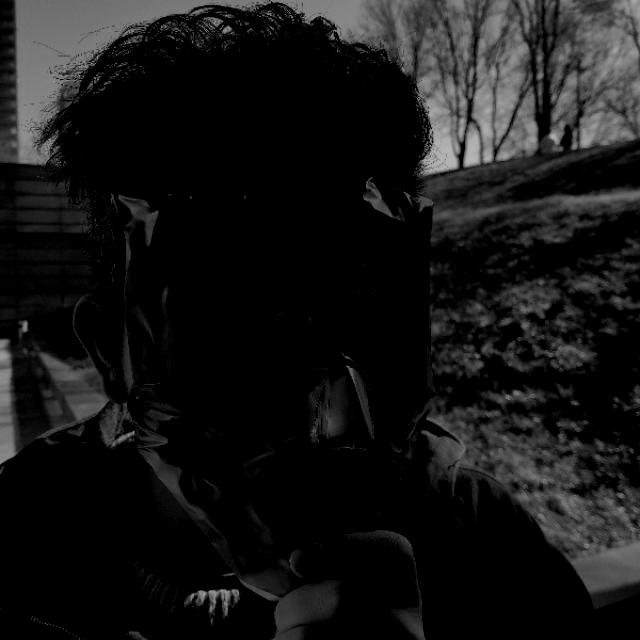fake: (106, 14, 426, 590)
